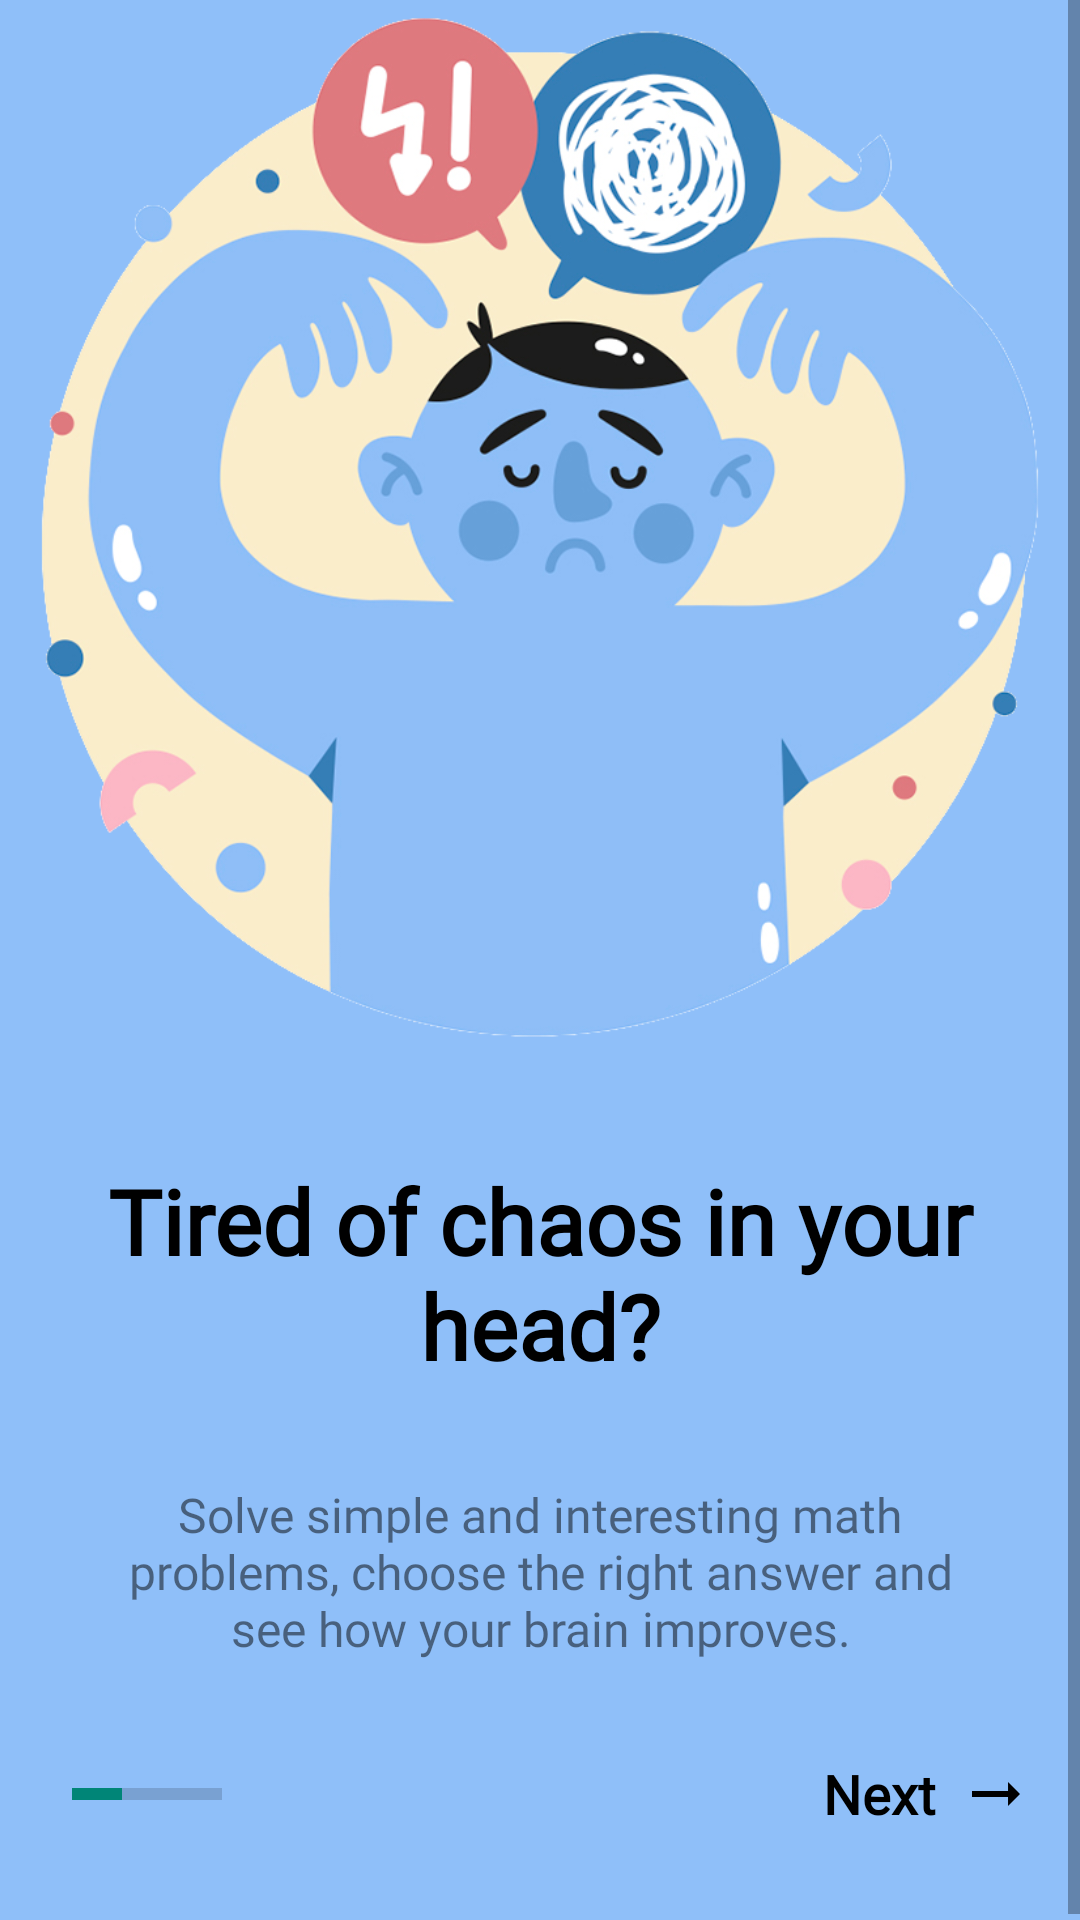

Point at icon controls on the screen. Image size 1080px×1920px, points as (x,y).
arrow right: (996,1794)
